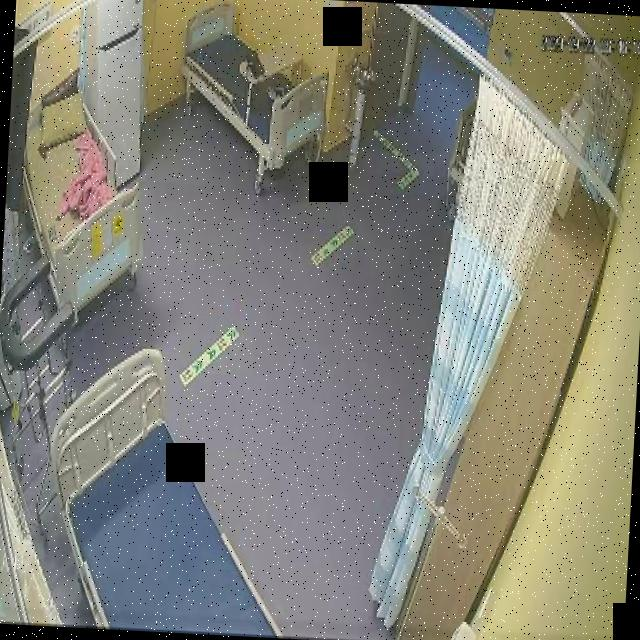bed: (41, 345, 296, 636), (14, 80, 155, 316), (174, 0, 333, 174)
walker: (0, 256, 79, 535)
